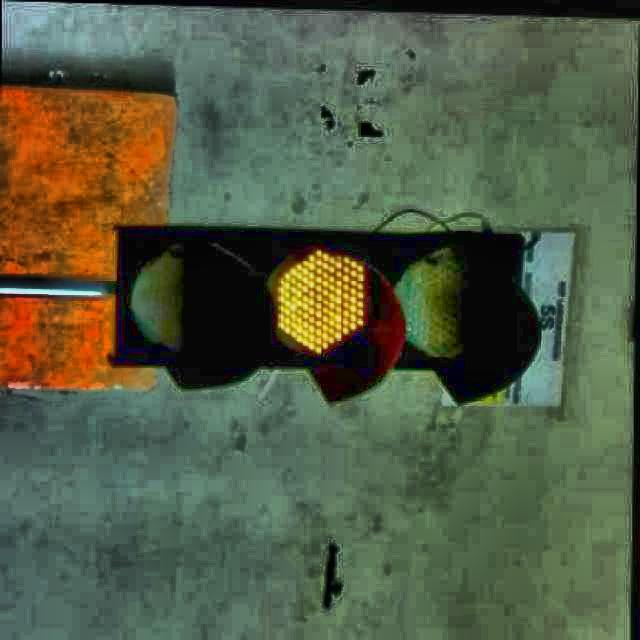yellow: (118, 221, 526, 386)
